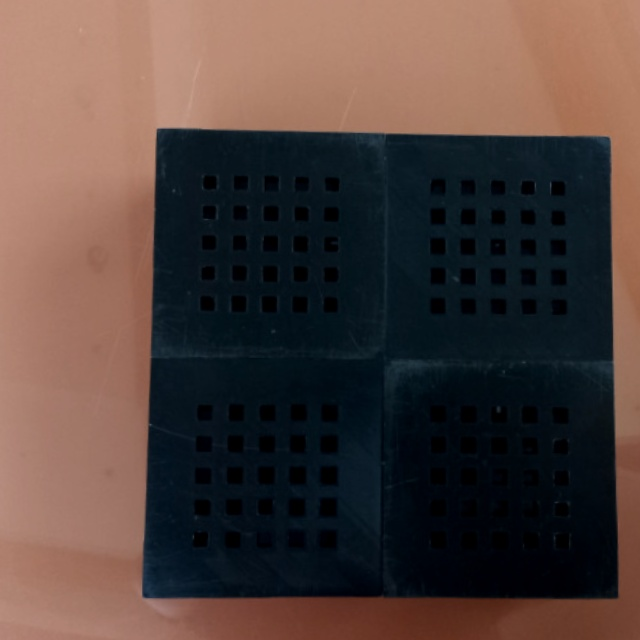pallet: (134, 120, 619, 604)
